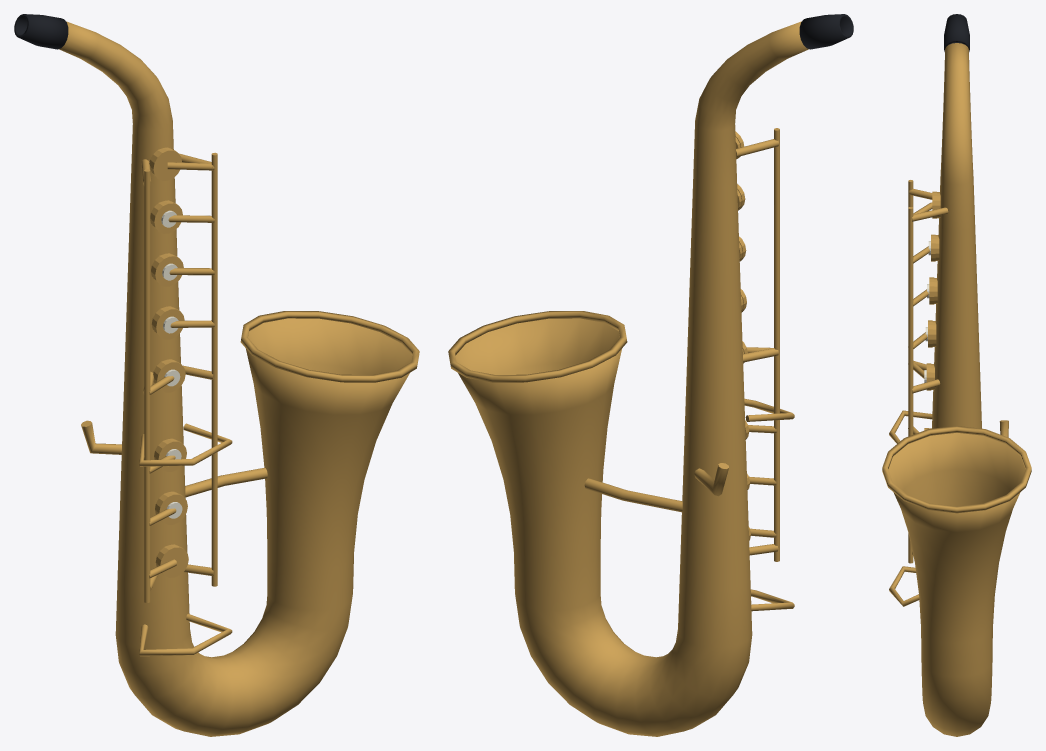
The model's file is A-NEW-20261026-ALTO-SAXOPHONE-001_LOD2_R2.glb.
3 renders of one model, left to right at view 1: azimuth 30°, elevation 25°; view 2: azimuth 150°, elevation 25°; view 3: azimuth 270°, elevation 25°, orthographic. The views are drawn at different scales.
Parts seen in each view (by area): view 1: continuous neck body bow and open bell, rolled bell rim, left key rod, right key rod, open black mouthpiece, lower key guard 0, lower key guard 1, bell body brace, closed cup 07, closed cup 00; view 2: continuous neck body bow and open bell, rolled bell rim, left key rod, open black mouthpiece, bell body brace; view 3: continuous neck body bow and open bell, rolled bell rim, right key rod, open black mouthpiece, lower key guard 0, lower key guard 1, right rod pillar 0.525.
Boxes of the visible parts, <box> form: continuous neck body bow and open bell: <box>59,21,412,736</box>; rolled bell rim: <box>240,311,419,382</box>; left key rod: <box>144,169,150,602</box>; right key rod: <box>211,152,217,586</box>; open black mouthpiece: <box>14,14,68,49</box>; lower key guard 0: <box>139,613,232,656</box>; lower key guard 1: <box>139,423,232,466</box>; bell body brace: <box>185,468,267,497</box>; closed cup 07: <box>150,148,181,180</box>; closed cup 00: <box>157,545,188,577</box>; continuous neck body bow and open bell: <box>455,21,808,736</box>; rolled bell rim: <box>448,311,627,382</box>; left key rod: <box>774,128,779,561</box>; open black mouthpiece: <box>799,14,853,49</box>; bell body brace: <box>584,478,682,512</box>; continuous neck body bow and open bell: <box>888,43,1025,736</box>; rolled bell rim: <box>882,426,1031,513</box>; right key rod: <box>908,207,913,563</box>; open black mouthpiece: <box>944,14,969,51</box>; lower key guard 0: <box>889,566,919,606</box>; lower key guard 1: <box>889,410,932,443</box>; right rod pillar 0.525: <box>912,207,948,221</box>.
Size of the model in its own units: 0.3131 by 0.5867 by 0.126.
